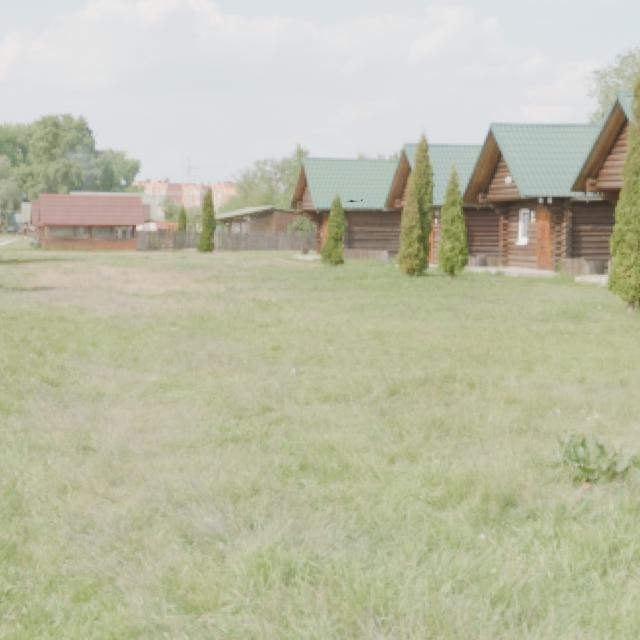Airaplan: (347, 198, 364, 202)
